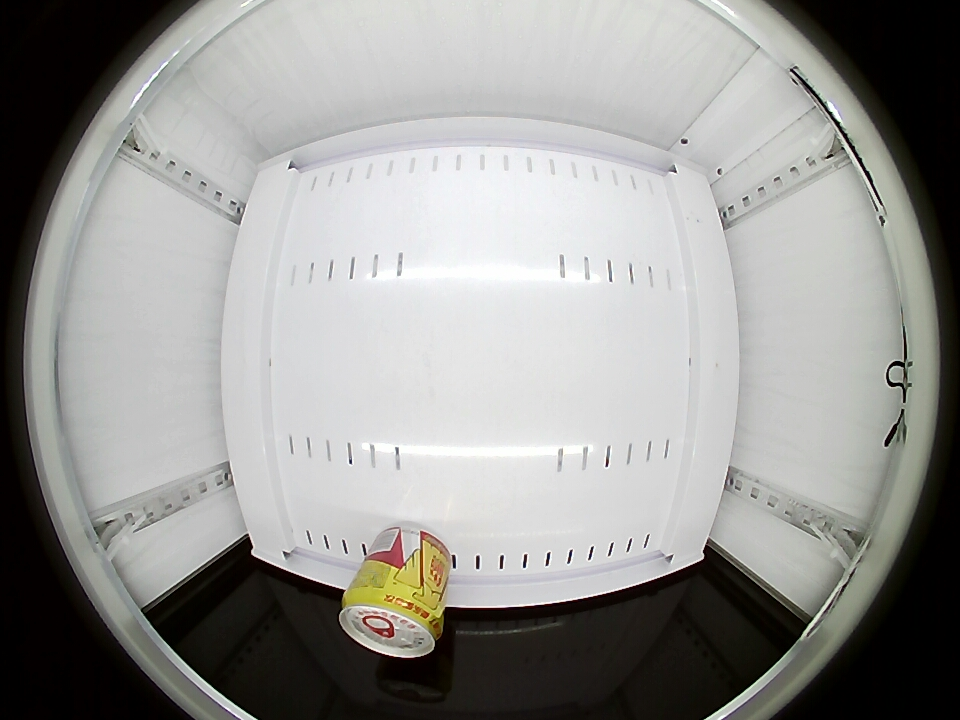dongpeng: (339, 583, 444, 658)
